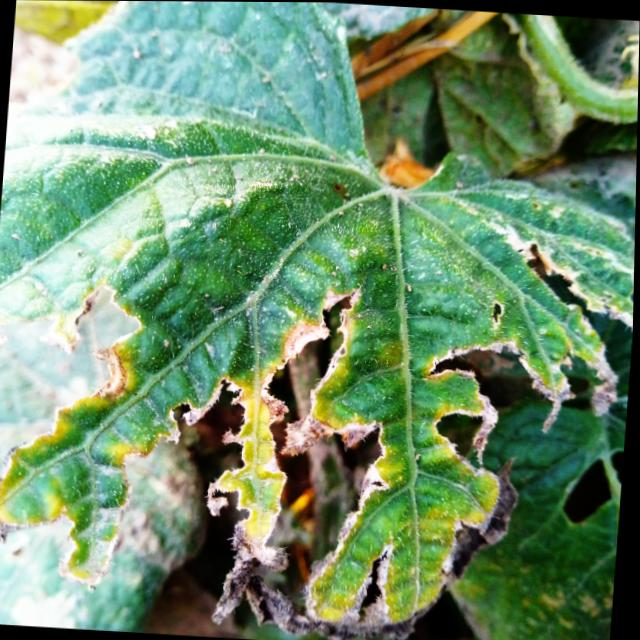Anthracnose: (558, 442, 624, 538), (474, 293, 520, 331)
